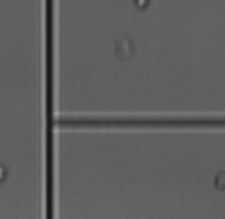Dead Cell: (114, 40, 134, 57)
